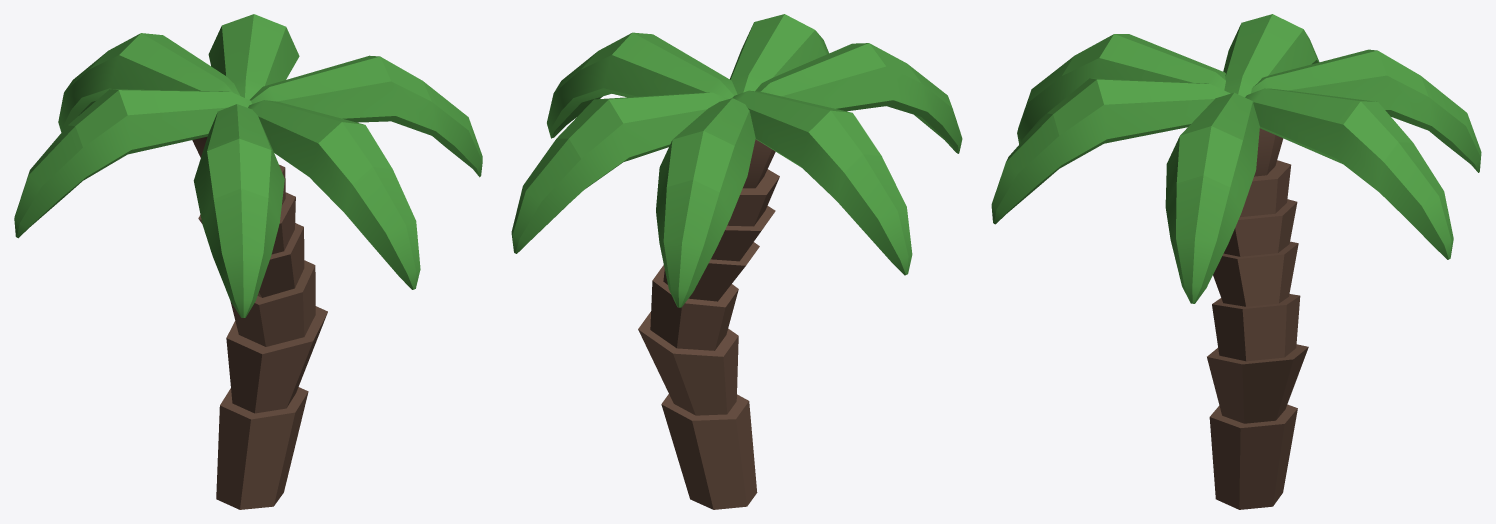
File: BeachTree1.fbx
3 renders of one model, left to right at view 1: azimuth 30°, elevation 25°; view 2: azimuth 150°, elevation 25°; view 3: azimuth 270°, elevation 25°, orthographic.
Visible parts, largest first — view 1: pCylinder75, pCylinder76, pCylinder78, pCylinder79, pCylinder77, pCylinder80, pCylinder81; view 2: pCylinder75, pCylinder80, pCylinder79, pCylinder81, pCylinder78, pCylinder77, pCylinder76; view 3: pCylinder75, pCylinder81, pCylinder77, pCylinder76, pCylinder80, pCylinder78, pCylinder79.
Part boxes in pixels (x1,y1,x2,y2): pCylinder75: (192,136,327,509); pCylinder76: (248,100,420,289); pCylinder78: (193,104,284,317); pCylinder79: (14,89,251,238); pCylinder77: (250,55,482,177); pCylinder80: (58,33,240,132); pCylinder81: (208,14,299,99); pCylinder75: (638,139,779,509); pCylinder80: (656,98,755,307); pCylinder79: (732,90,912,275); pCylinder81: (511,92,728,253); pCylinder78: (755,43,962,153); pCylinder77: (547,32,737,138); pCylinder76: (730,14,829,94); pCylinder75: (1207,128,1308,509); pCylinder81: (1245,88,1453,259); pCylinder77: (1165,92,1259,303); pCylinder76: (991,78,1230,224); pCylinder80: (1251,49,1481,172); pCylinder78: (1017,34,1225,144); pCylinder79: (1223,14,1319,97).
Bounding box in the file's own units: 8.68 × 8.52 × 8.93.
